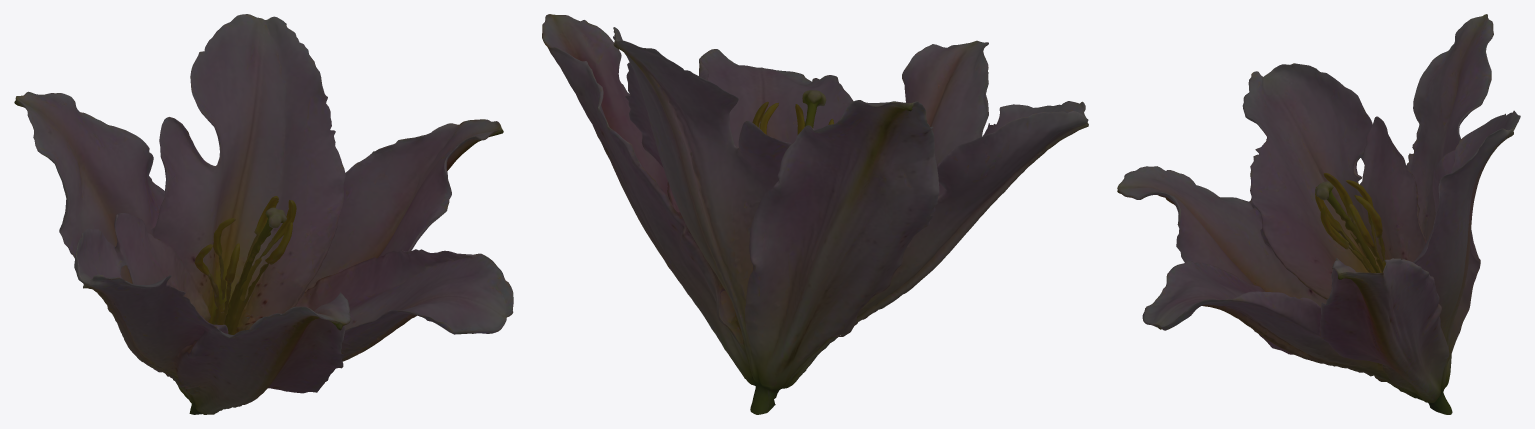
File: lily.glb
The picture shows the model from 3 angles, left to right: view 1: azimuth 30°, elevation 25°; view 2: azimuth 150°, elevation 25°; view 3: azimuth 270°, elevation 25°; orthographic projection. The views are drawn at different scales.
Visible parts, largest first — view 1: Lilie_Bluete.1001; view 2: Lilie_Bluete.1001; view 3: Lilie_Bluete.1001.
Part boxes in pixels (x1,y1,x2,y2): Lilie_Bluete.1001: (14, 14, 513, 414); Lilie_Bluete.1001: (542, 14, 1088, 414); Lilie_Bluete.1001: (1117, 14, 1520, 414).
Bounding box in the file's own units: 33.97 × 24.69 × 27.08.
Materials: 1 (1 with a texture image).
